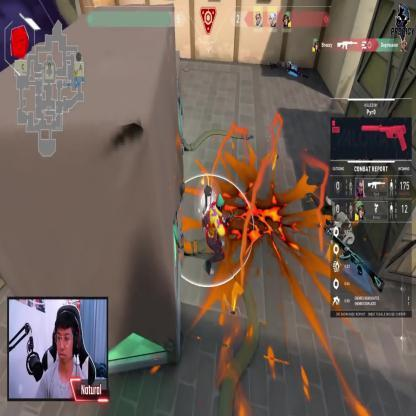enemy: (202, 188, 231, 282)
enemy_head: (216, 192, 224, 212)
